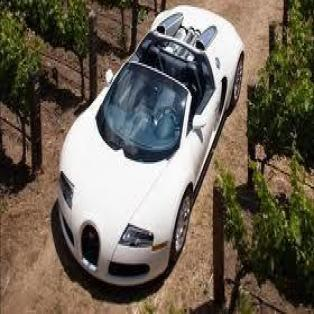Auto: (60, 5, 246, 286)
